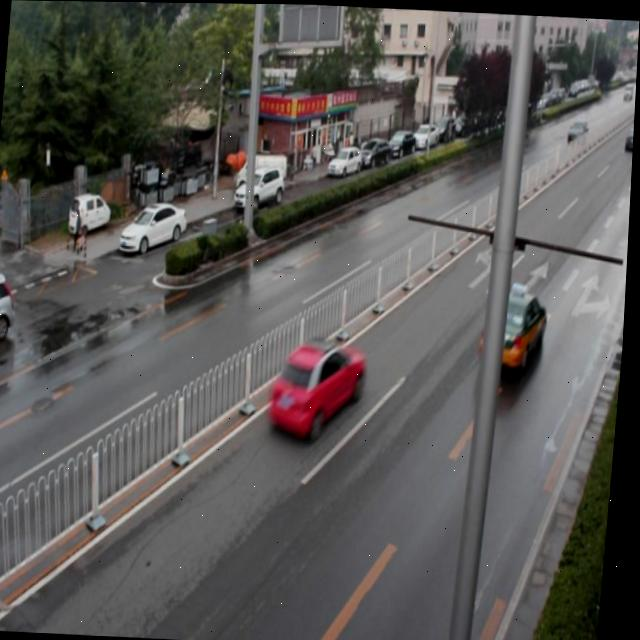car: (269, 332, 369, 442), (479, 279, 552, 374)
